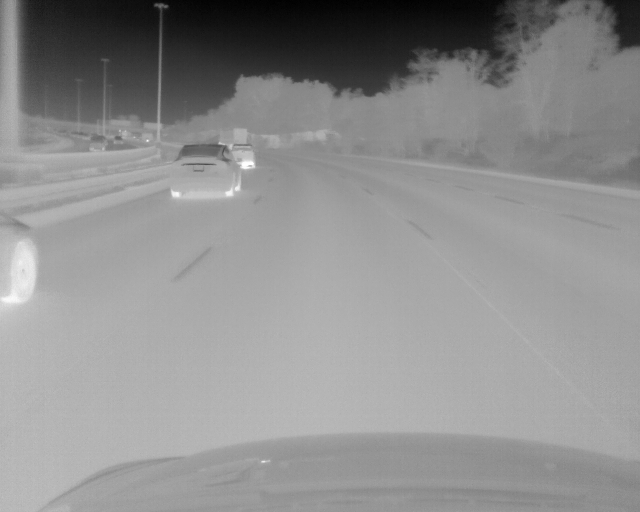car: (169, 143, 242, 199), (1, 210, 38, 304), (235, 144, 255, 169), (90, 140, 105, 150), (114, 135, 125, 146)
